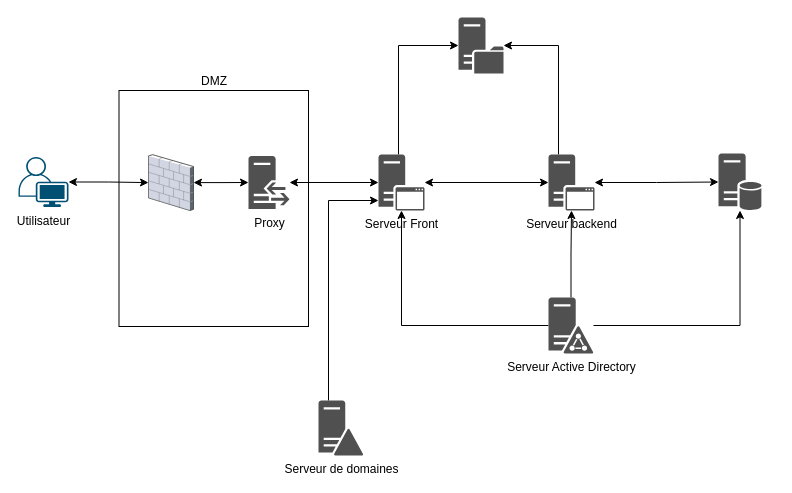
Image size: 792x493. Some labels were removed from this diagram. Here are the shapes that lost their labels. From the top down, the centre of each, then its label:
point (480, 45): Stockage de fichiers
point (170, 182): FireWall
point (739, 181): serveur BDD
